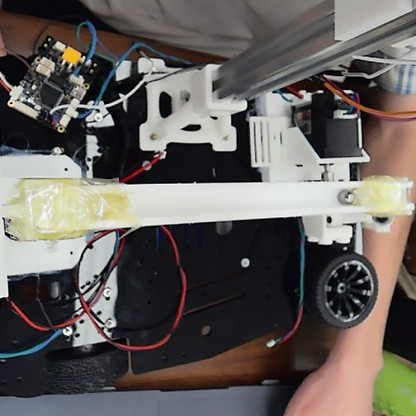ironball: (337, 186, 354, 205)
